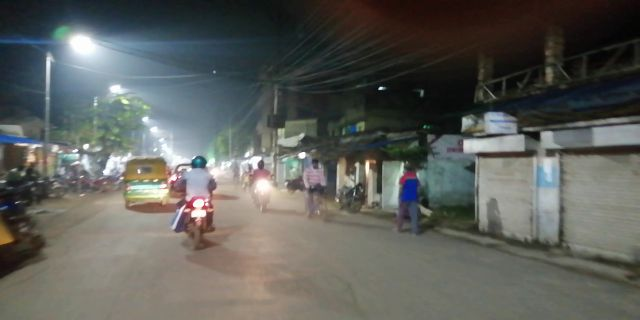Autorickshaw: (121, 156, 168, 211)
Motorbike: (175, 152, 220, 250)
